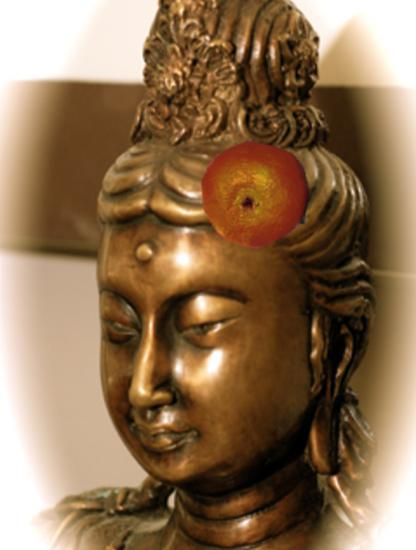Clementine: (201, 138, 315, 252)
